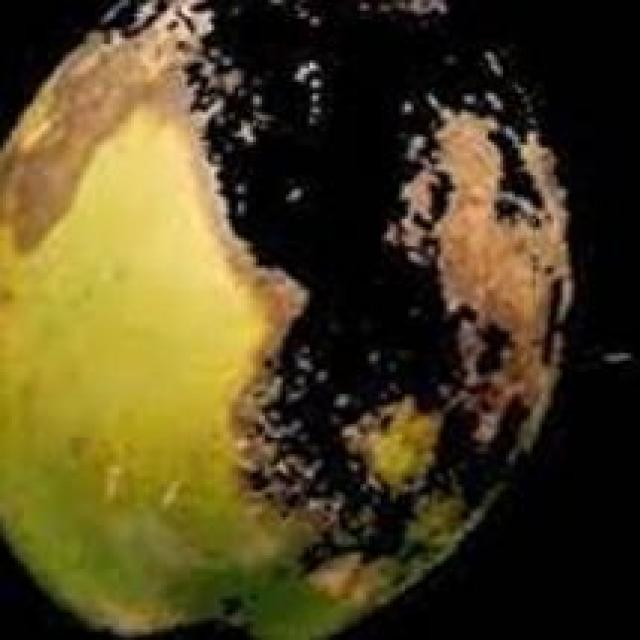damaged: (0, 0, 589, 637)
